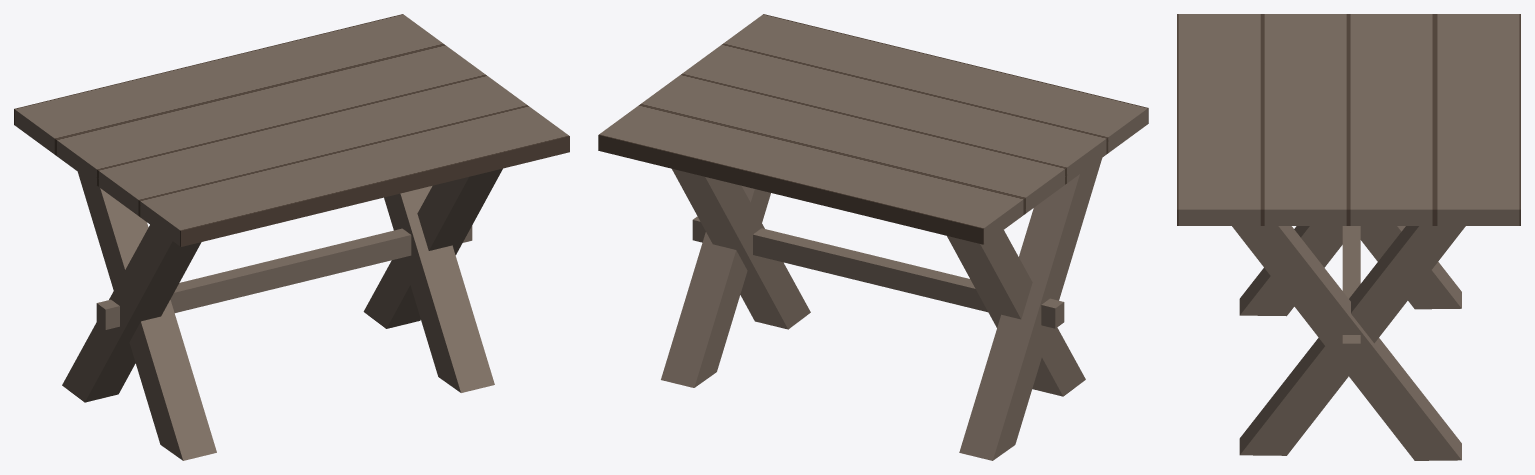
File: table.glb
3 views of the same model, side by side, from view 1: azimuth 30°, elevation 25°; view 2: azimuth 150°, elevation 25°; view 3: azimuth 270°, elevation 25° (orthographic). The views are drawn at different scales.
Parts seen in each view (by area): view 1: Object_3, Object_2; view 2: Object_3, Object_2; view 3: Object_3, Object_2.
Boxes of the visible parts, left/top/right/bottom form: Object_3: left=14, top=14, right=569, bottom=246; Object_2: left=62, top=168, right=502, bottom=460; Object_3: left=598, top=14, right=1148, bottom=244; Object_2: left=661, top=158, right=1102, bottom=460; Object_3: left=1177, top=14, right=1520, bottom=225; Object_2: left=1232, top=226, right=1465, bottom=460.
Bounding box in the file's own units: 1.15 × 0.7364 × 0.854.
Materials: 2 (2 with a texture image).
